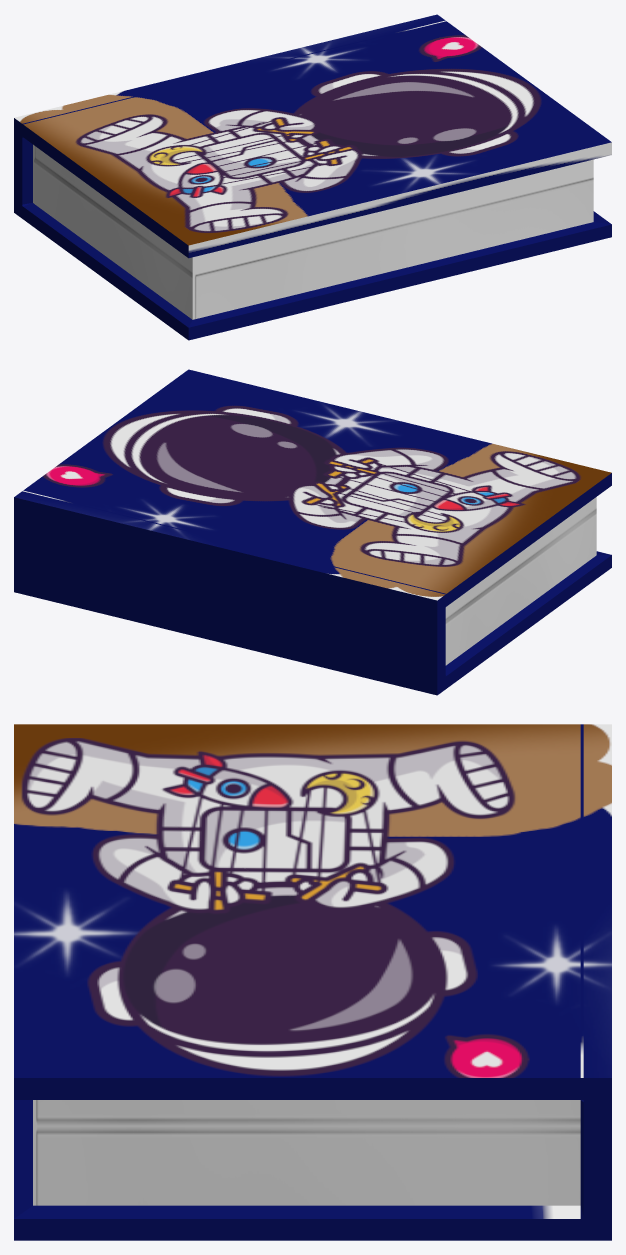
Rendered from book.glb.
3 views of the same model, one above another, from view 1: azimuth 30°, elevation 25°; view 2: azimuth 150°, elevation 25°; view 3: azimuth 270°, elevation 25° (orthographic). The views are drawn at different scales.
Parts seen in each view (by area): view 1: Cube.006; view 2: Cube.006; view 3: Cube.006.
Part boxes in pixels (x1,y1,x2,y2): Cube.006: [14, 14, 611, 340]; Cube.006: [14, 369, 611, 695]; Cube.006: [14, 724, 611, 1240].
Size of the model in its own units: 13.16 by 2.82 by 9.4.
1 material, 1 textured.
